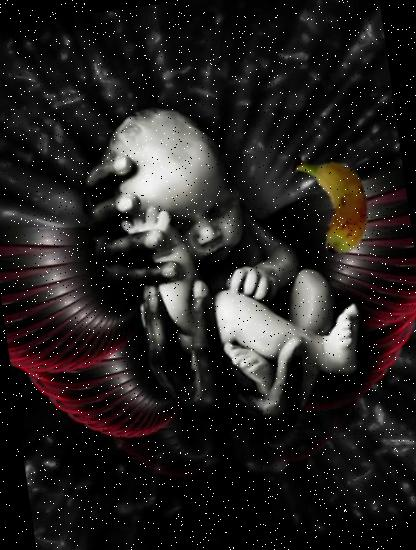Banana: (272, 145, 390, 264)
